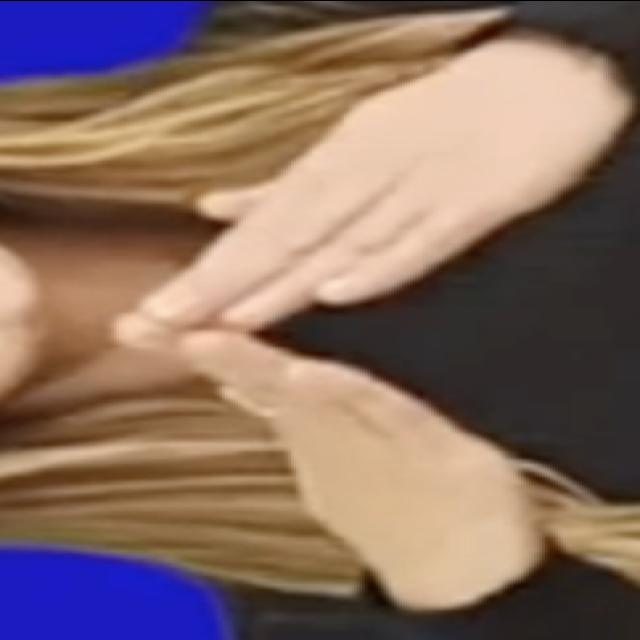casa: (94, 25, 618, 615)
